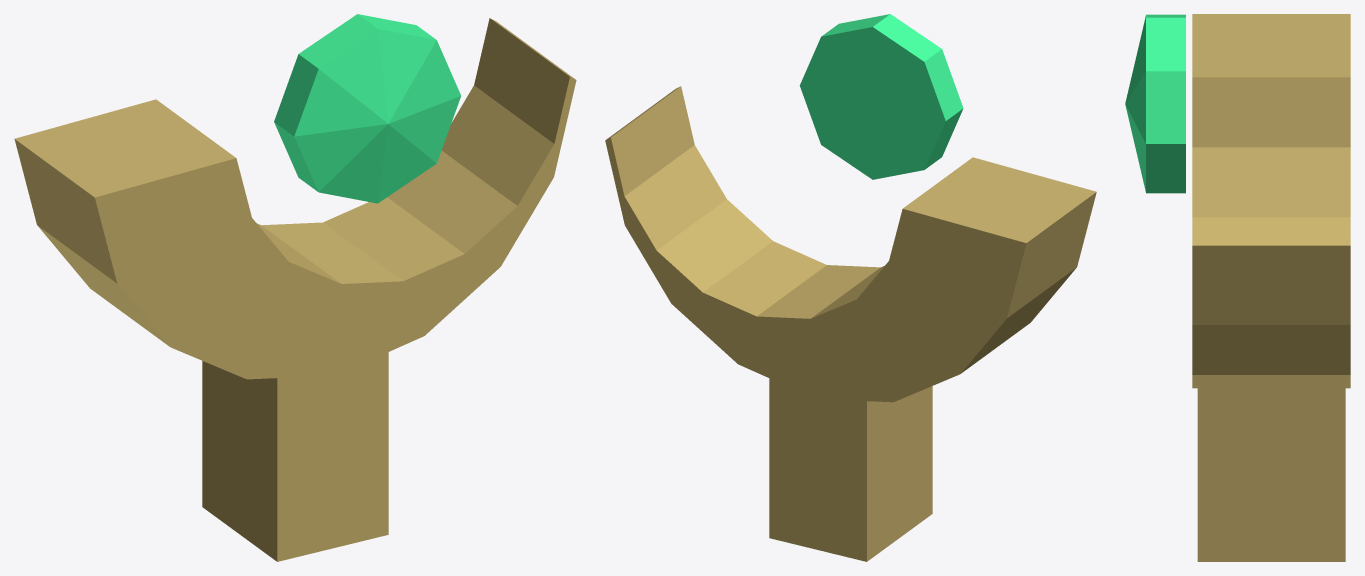
File: crescent_moon.obj
3 renders of one model, left to right at view 1: azimuth 30°, elevation 25°; view 2: azimuth 150°, elevation 25°; view 3: azimuth 270°, elevation 25°, orthographic. The views are drawn at different scales.
Visible parts, largest first — view 1: moon_finial_edge, moon_finial, crescent_socket, moon_gem; view 2: moon_finial_edge, moon_finial, crescent_socket, moon_gem; view 3: moon_finial_edge, crescent_socket, moon_gem.
Part boxes in pixels (x1=…): moon_finial_edge: x1=14, y1=18, x2=575, y2=346; moon_finial: x1=95, y1=77, x2=576, y2=379; crescent_socket: x1=202, y1=352, x2=388, y2=561; moon_gem: x1=274, y1=14, x2=460, y2=203; moon_finial_edge: x1=606, y1=86, x2=1096, y2=373; moon_finial: x1=605, y1=137, x2=1026, y2=402; crescent_socket: x1=769, y1=378, x2=932, y2=561; moon_gem: x1=799, y1=14, x2=963, y2=179; moon_finial_edge: x1=1192, y1=14, x2=1350, y2=388; crescent_socket: x1=1197, y1=388, x2=1345, y2=561; moon_gem: x1=1125, y1=14, x2=1185, y2=193.
Size of the model in its own units: 0.519 by 0.55 by 0.2137.
